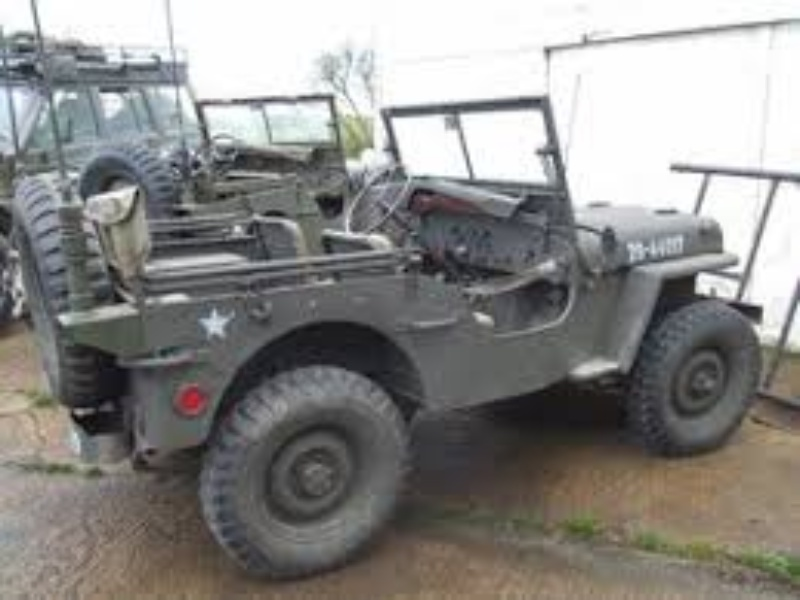jeep: (13, 96, 768, 583)
